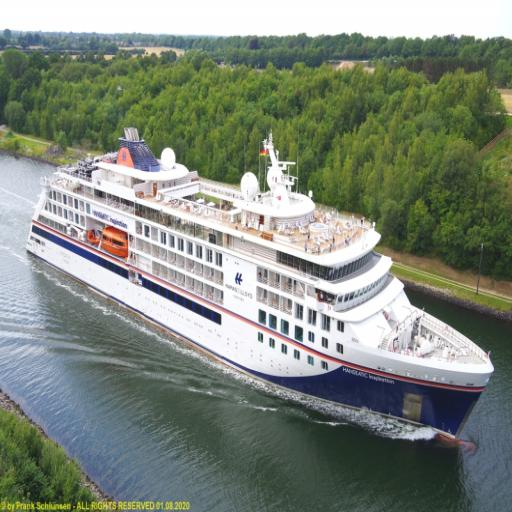cruises: (25, 125, 499, 448)
